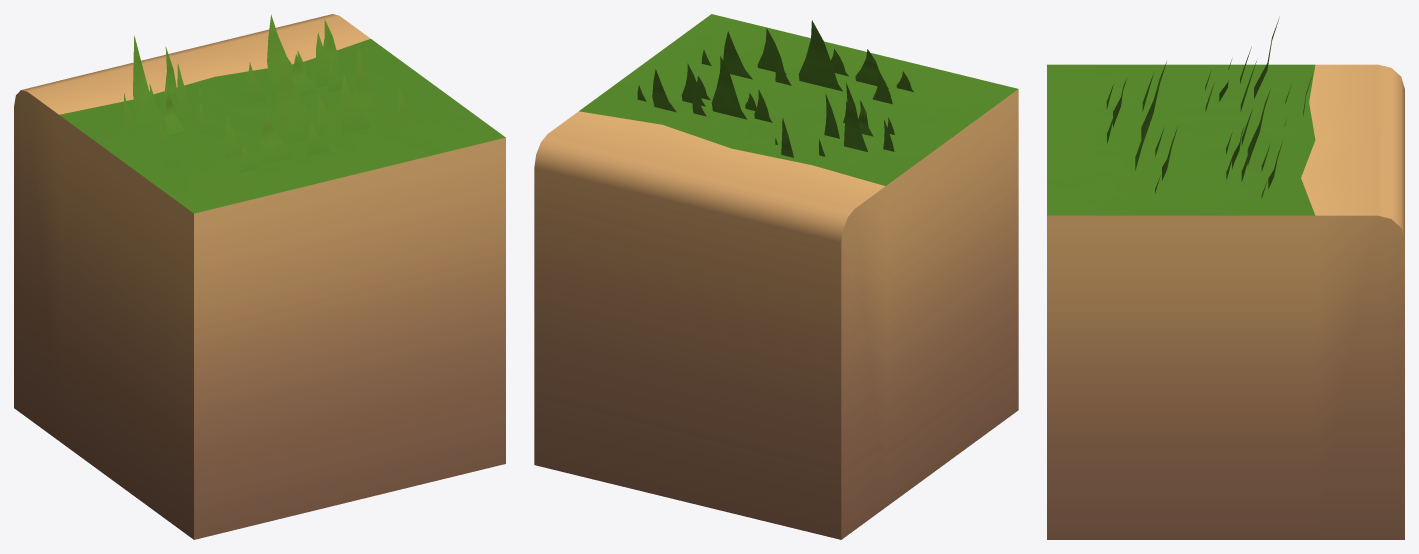
Rendered from up m tile.fbx.
The picture shows the model from 3 angles, left to right: view 1: azimuth 30°, elevation 25°; view 2: azimuth 150°, elevation 25°; view 3: azimuth 270°, elevation 25°; orthographic projection.
Parts seen in each view (by area): view 1: u_m_tile, u_m_grass; view 2: u_m_tile, u_m_grass; view 3: u_m_tile, u_m_grass.
Boxes of the visible parts, <box> form: u_m_tile: <box>14,14,505,539</box>; u_m_grass: <box>123,14,407,172</box>; u_m_tile: <box>534,14,1018,539</box>; u_m_grass: <box>637,20,913,157</box>; u_m_tile: <box>1047,64,1404,539</box>; u_m_grass: <box>1106,17,1312,198</box>.
Size of the model in its own units: 10 by 12.42 by 10.
